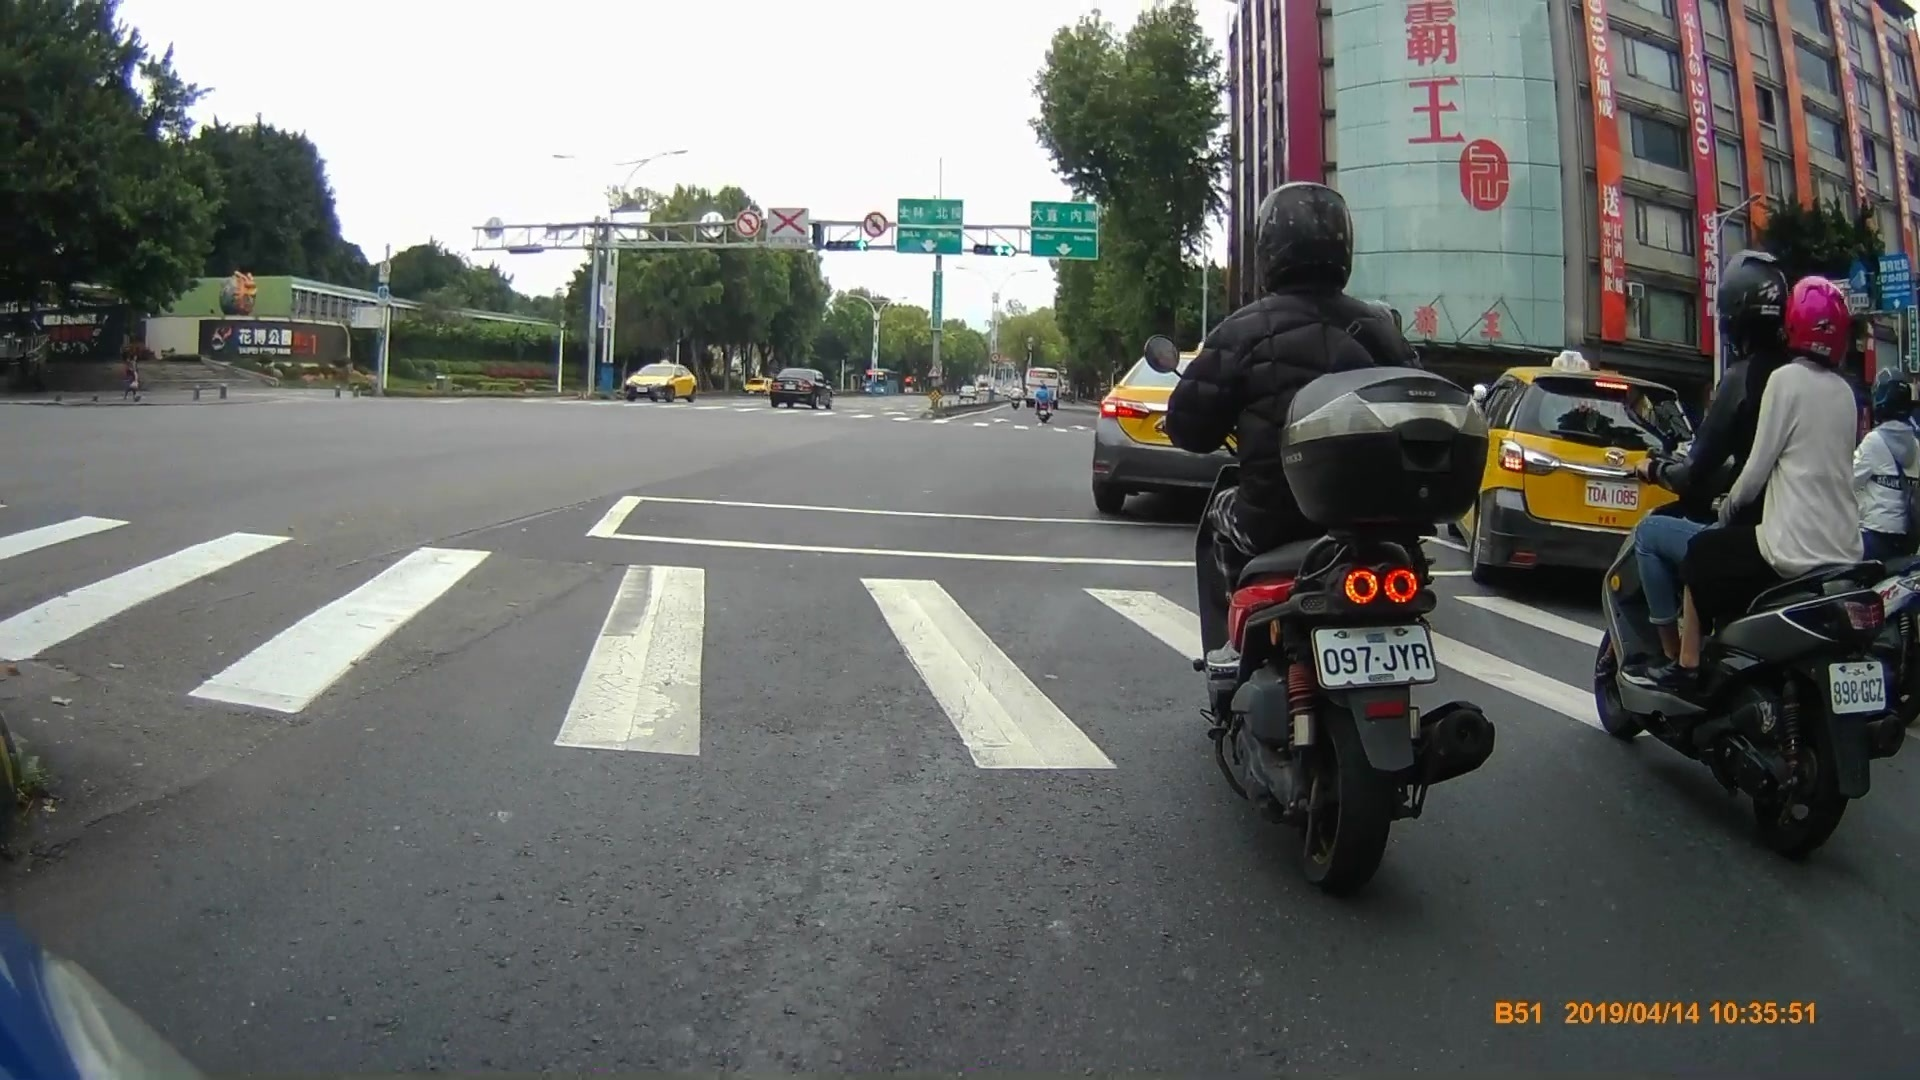License_plate: (1312, 617, 1441, 686), (1822, 663, 1891, 712), (1580, 476, 1641, 508)
